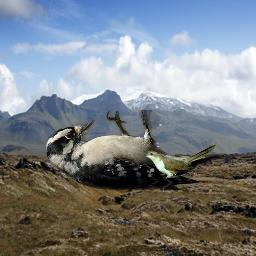Cuckoo: (142, 144, 216, 178)
Woodpecker: (46, 110, 227, 190)
